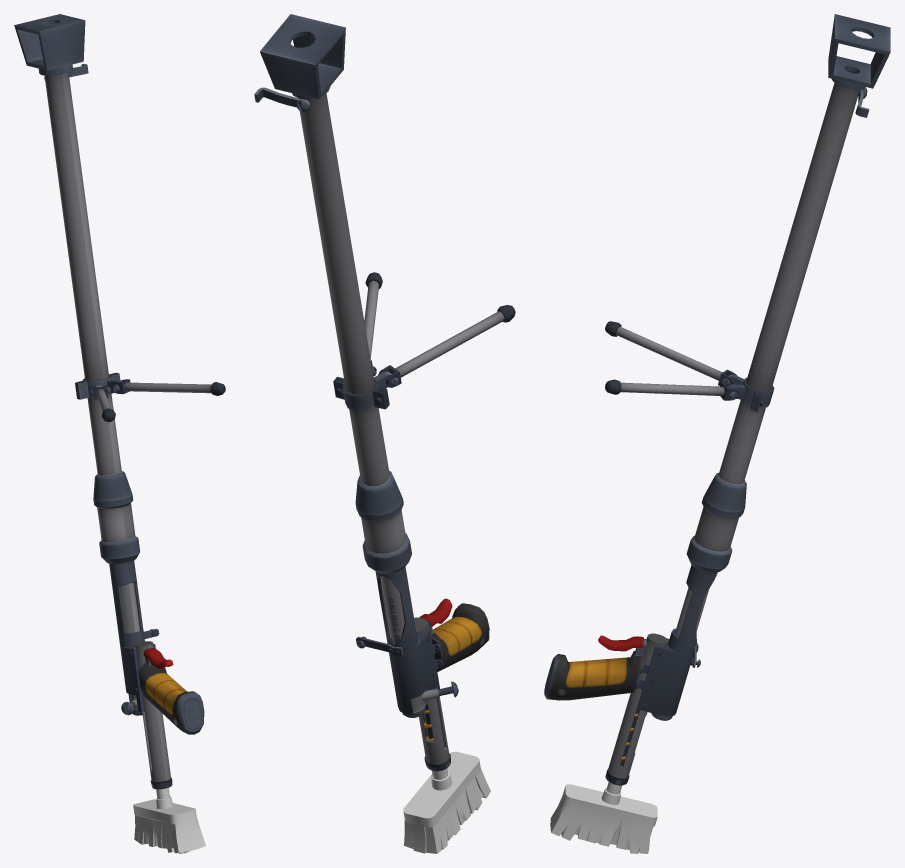
Rendered from PTRD_Preview.fbx.
The picture shows the model from 3 angles, left to right: view 1: azimuth 30°, elevation 25°; view 2: azimuth 150°, elevation 25°; view 3: azimuth 270°, elevation 25°; orthographic projection. The views are drawn at different scales.
Visible parts, largest first — view 1: PTRD_Anim.001; view 2: PTRD_Anim.001; view 3: PTRD_Anim.001.
Part boxes in pixels (x1=…): PTRD_Anim.001: x1=14, y1=14, x2=225, y2=853; PTRD_Anim.001: x1=254, y1=14, x2=515, y2=853; PTRD_Anim.001: x1=544, y1=14, x2=890, y2=853.
Bounding box in the file's own units: 1.22 × 7.22 × 2.76.
